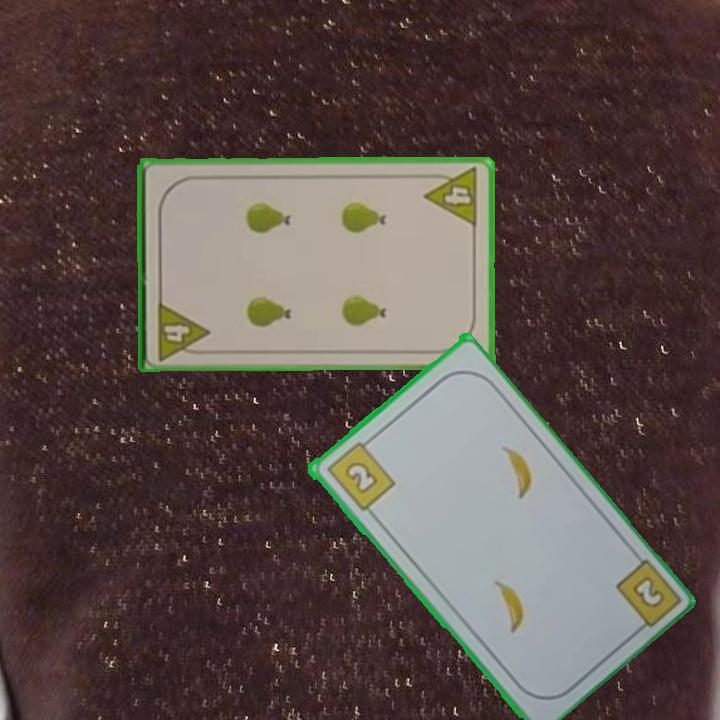2b: (322, 434, 397, 514), (627, 572, 668, 612)
4p: (421, 164, 481, 229), (154, 298, 211, 363)
